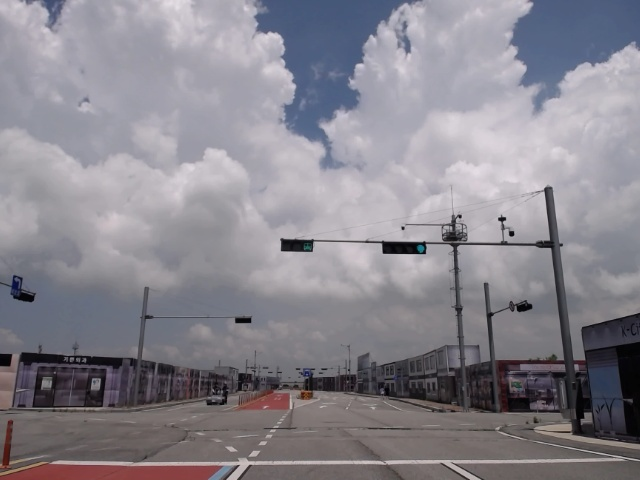straight_green_4: (383, 242, 428, 255)
